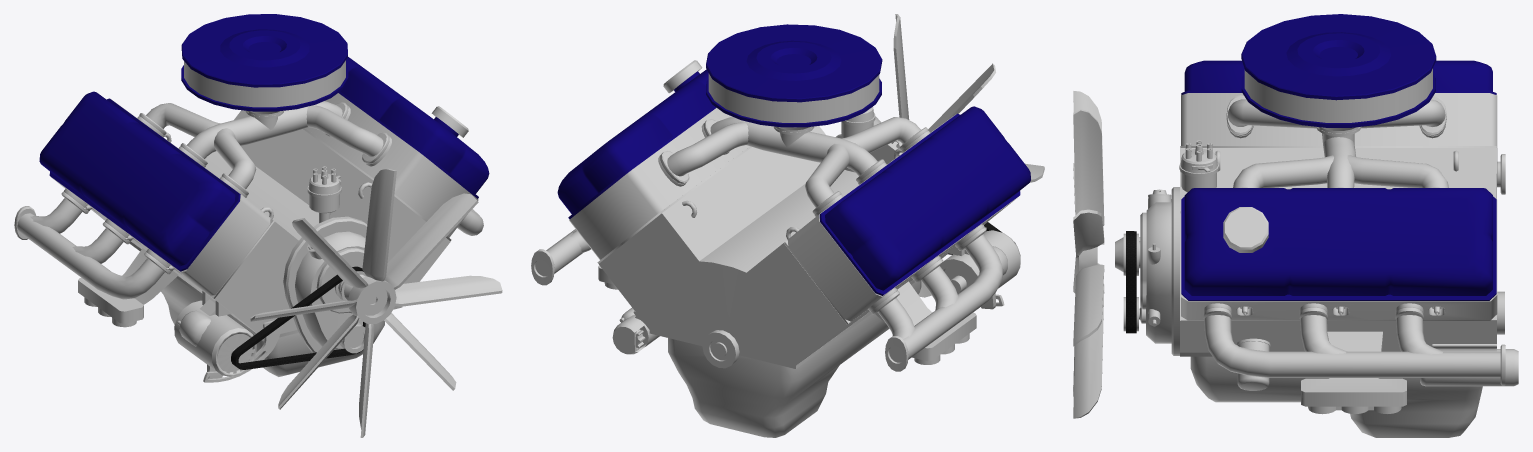
File: FenixEngine.fbx
3 renders of one model, left to right at view 1: azimuth 30°, elevation 25°; view 2: azimuth 150°, elevation 25°; view 3: azimuth 270°, elevation 25°, orthographic. The views are drawn at different scales.
Visible parts, largest first — view 1: CylindersHeadCoverLeft, CylindersBlock, EngineFan, AirFilterCap, IntakeManifold, CylindersHeadCoverRight, ExhaustManifoldLeft, CylindersHeadRight, CylindersHeadLeft, WaterPumpBody, Generator, AirFilter (+6 smaller); view 2: CylindersBlock, CylindersHeadCoverLeft, OilPan, AirFilterCap, IntakeManifold, CylindersHeadRight, CylindersHeadCoverRight, ExhaustManifoldLeft, CylindersHeadLeft, AirFilter, EngineFan, Generator (+5 smaller); view 3: CylindersHeadCoverRight, CylindersBlock, AirFilterCap, ExhaustManifoldRight, EngineFan, IntakeManifold, CylindersHeadLeft, OilPan, CylindersHeadRight, WaterPumpBody, AirFilter, CylindersHeadCoverLeft (+11 smaller).
Boxes of the visible parts, x1,y1,x2,y2 form: CylindersHeadCoverLeft: (39,91,240,271); CylindersBlock: (78,110,450,382); EngineFan: (250,168,502,437); AirFilterCap: (181,14,347,87); IntakeManifold: (139,101,389,195); CylindersHeadCoverRight: (338,57,489,198); ExhaustManifoldLeft: (14,191,171,299); CylindersHeadRight: (305,93,478,237); CylindersHeadLeft: (50,99,270,295); WaterPumpBody: (284,217,367,352); Generator: (174,299,256,378); AirFilter: (184,60,345,107); CylindersBlock: (598,126,1004,365); CylindersHeadCoverLeft: (819,106,1030,295); OilPan: (649,280,921,437); AirFilterCap: (706,24,882,102); IntakeManifold: (660,117,928,214); CylindersHeadRight: (569,108,749,259); CylindersHeadCoverRight: (557,69,716,219); ExhaustManifoldLeft: (871,227,1003,371); CylindersHeadLeft: (787,114,1019,321); AirFilter: (708,73,879,122); EngineFan: (873,14,1044,297); Generator: (940,230,1020,309); CylindersHeadCoverRight: (1181,188,1496,300); CylindersBlock: (1180,148,1496,406); AirFilterCap: (1241,14,1436,100); ExhaustManifoldRight: (1203,307,1505,385); EngineFan: (1073,91,1104,418); IntakeManifold: (1226,95,1448,187); CylindersHeadLeft: (1181,93,1497,182); OilPan: (1180,352,1482,437); CylindersHeadRight: (1181,196,1497,320); WaterPumpBody: (1146,187,1176,355); AirFilter: (1244,68,1432,122); CylindersHeadCoverLeft: (1181,60,1496,94).
Size of the model in its own units: 84.38 by 71.52 by 78.37.
